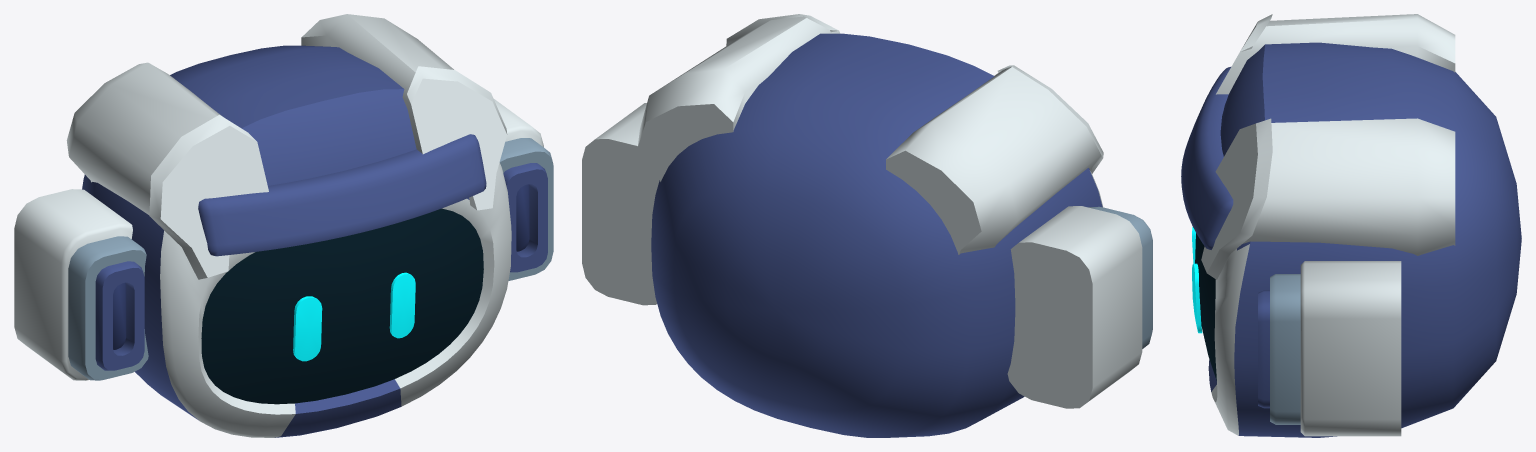
The model's file is copilot_architect_v01.glb.
3 views of the same model, side by side, from view 1: azimuth 30°, elevation 25°; view 2: azimuth 150°, elevation 25°; view 3: azimuth 270°, elevation 25° (orthographic). The views are drawn at different scales.
Visible parts, largest first — view 1: architect_model; view 2: architect_model; view 3: architect_model.
Boxes of the visible parts, bbox=[...] form: architect_model: bbox=[14, 14, 553, 437]; architect_model: bbox=[582, 14, 1152, 437]; architect_model: bbox=[1181, 14, 1521, 437].
Bounding box in the file's own units: 3.35 × 2.16 × 1.99.
2 materials, 2 textured.
